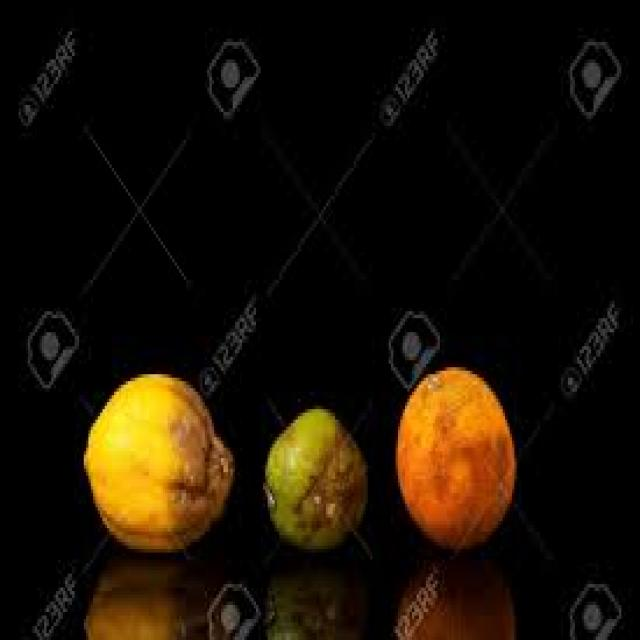organic waste: (79, 370, 231, 552), (391, 360, 514, 553), (261, 402, 363, 546), (81, 556, 233, 637), (391, 556, 512, 637), (265, 566, 361, 636)
